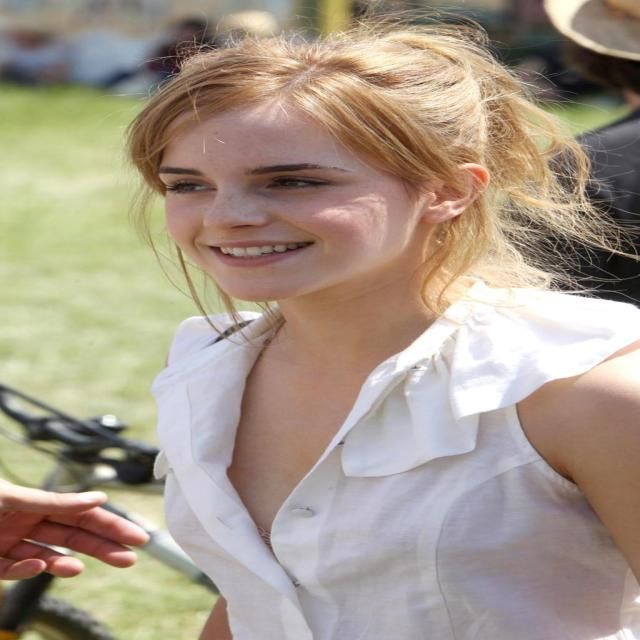Face: (154, 111, 431, 308)
